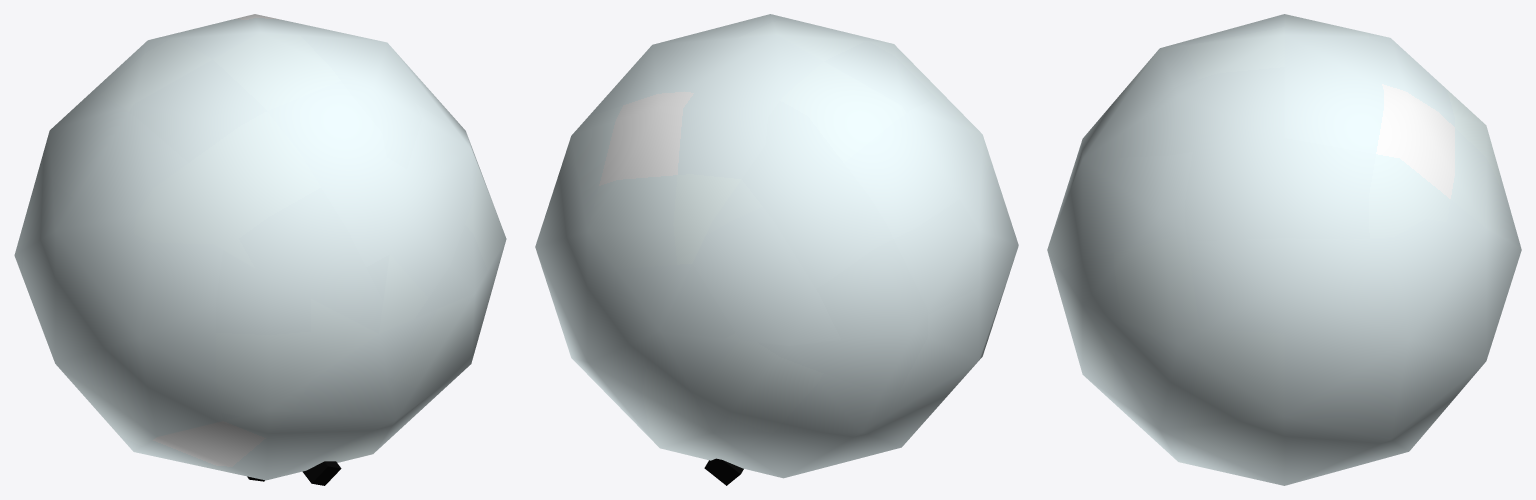
The model's file is snow-ball-center.glb.
3 renders of one model, left to right at view 1: azimuth 30°, elevation 25°; view 2: azimuth 150°, elevation 25°; view 3: azimuth 270°, elevation 25°, orthographic.
Visible parts, largest first — view 1: snow-ball-center; view 2: snow-ball-center; view 3: snow-ball-center.
Boxes of the visible parts, bbox=[...] form: snow-ball-center: bbox=[14, 14, 506, 485]; snow-ball-center: bbox=[535, 14, 1018, 485]; snow-ball-center: bbox=[1047, 14, 1521, 485].
Bounding box in the file's own units: 1.25 × 1.3 × 1.25.
Materials: 1 (1 with a texture image).
